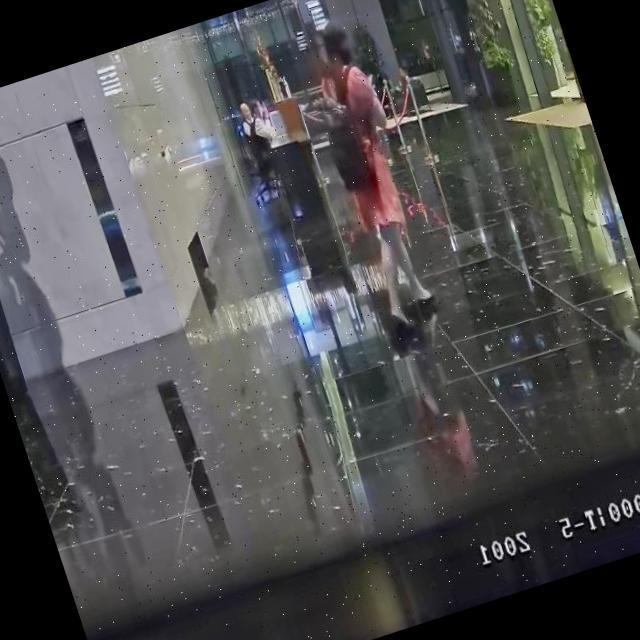person: (297, 16, 450, 331), (239, 96, 285, 170), (382, 60, 413, 95), (236, 100, 260, 140)
